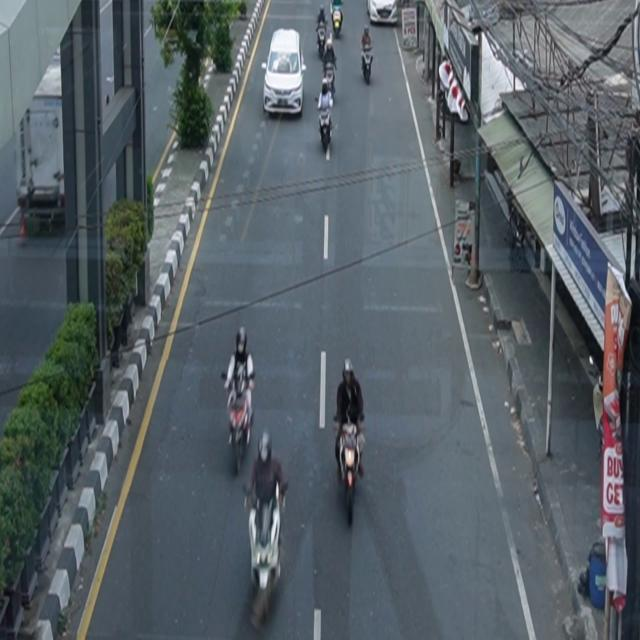car: (262, 29, 308, 118)
